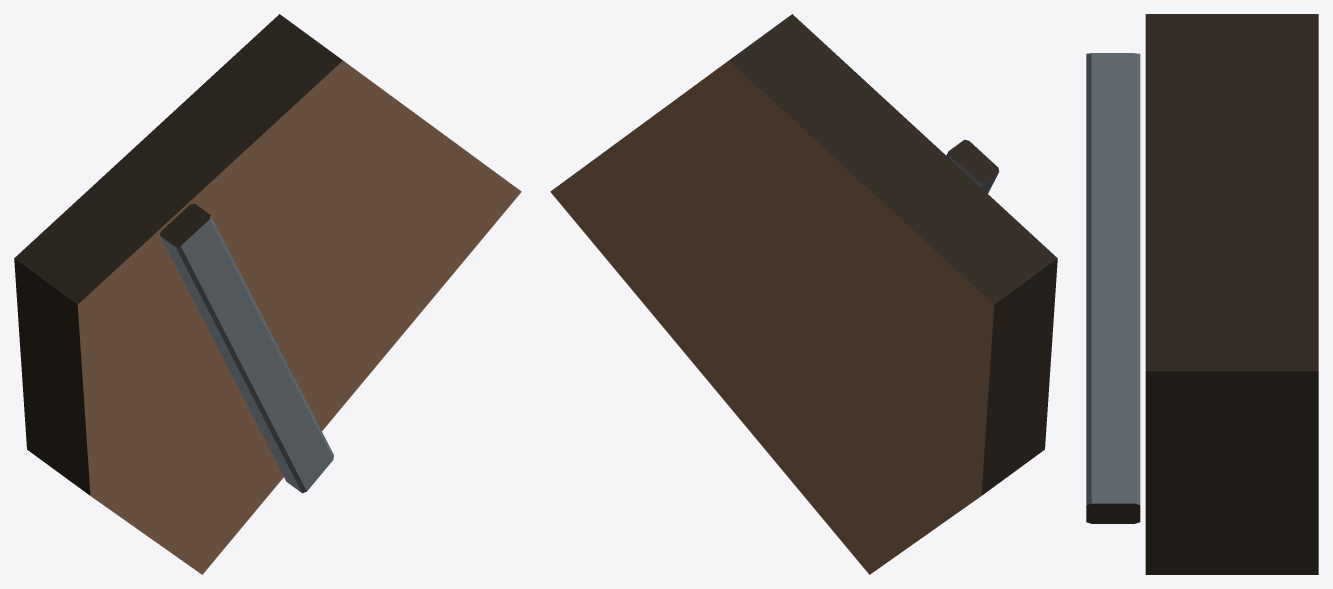
Rendered from SM_DoorShard_02_11.fbx.
3 views of the same model, side by side, from view 1: azimuth 30°, elevation 25°; view 2: azimuth 150°, elevation 25°; view 3: azimuth 270°, elevation 25° (orthographic). The views are drawn at different scales.
Visible parts, largest first — view 1: SM_DoorShard_02_11; view 2: SM_DoorShard_02_11; view 3: SM_DoorShard_02_11.
Boxes of the visible parts, left/top/right/bottom form: SM_DoorShard_02_11: left=14, top=14, right=521, bottom=574; SM_DoorShard_02_11: left=550, top=14, right=1057, bottom=574; SM_DoorShard_02_11: left=1086, top=14, right=1318, bottom=574.
Size of the model in its own units: 64.62 by 21.5 by 66.77.
